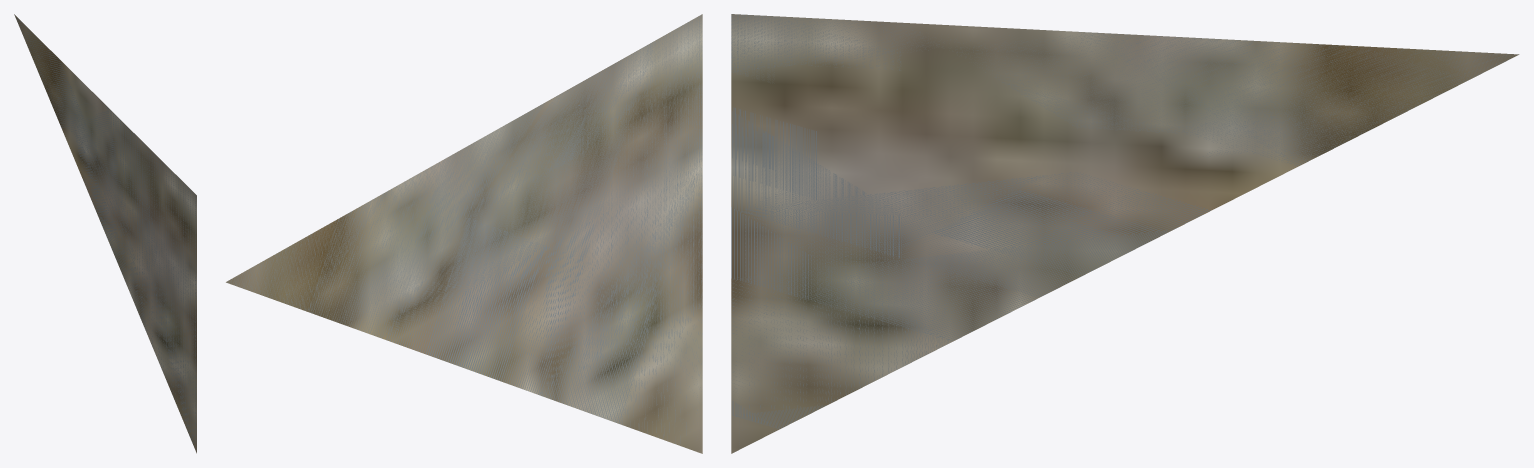
Rendered from 西庸城堡83.dae.
3 views of the same model, side by side, from view 1: azimuth 30°, elevation 25°; view 2: azimuth 150°, elevation 25°; view 3: azimuth 270°, elevation 25° (orthographic). The views are drawn at different scales.
Parts seen in each view (by area): view 1: SketchUp; view 2: SketchUp; view 3: SketchUp.
Boxes of the visible parts, x1=… form: SketchUp: x1=14, y1=14, x2=196, y2=453; SketchUp: x1=226, y1=14, x2=702, y2=453; SketchUp: x1=731, y1=14, x2=1519, y2=453.
Bounding box in the file's own units: 5.01 × 41.24 × 25.39.
